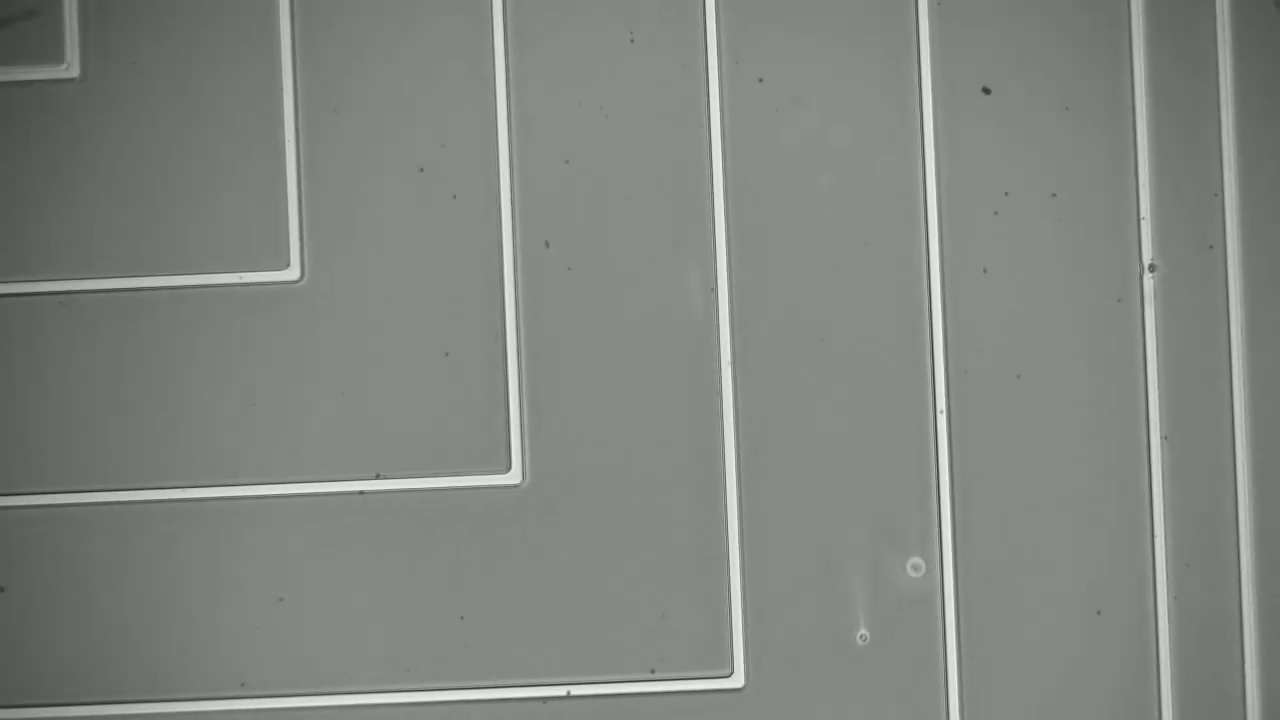stains_enbedded: (1136, 256, 1163, 281)
